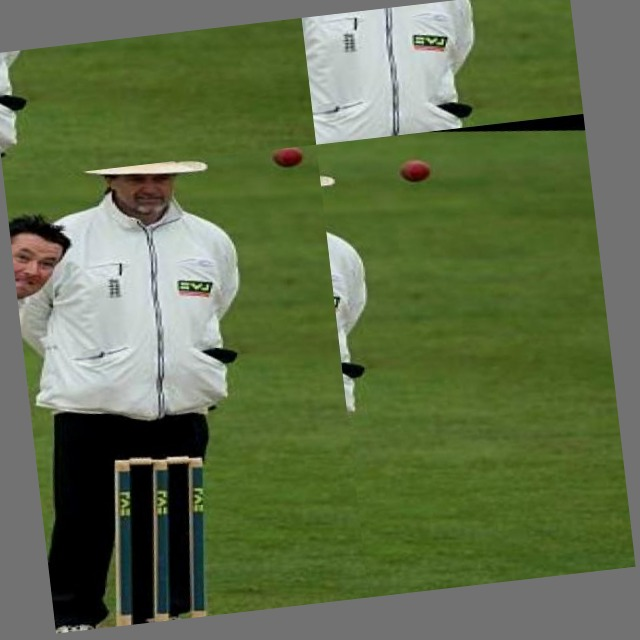No_Action: (316, 128, 512, 597)
No_Ball: (4, 145, 369, 633)
Six: (0, 39, 137, 181)
